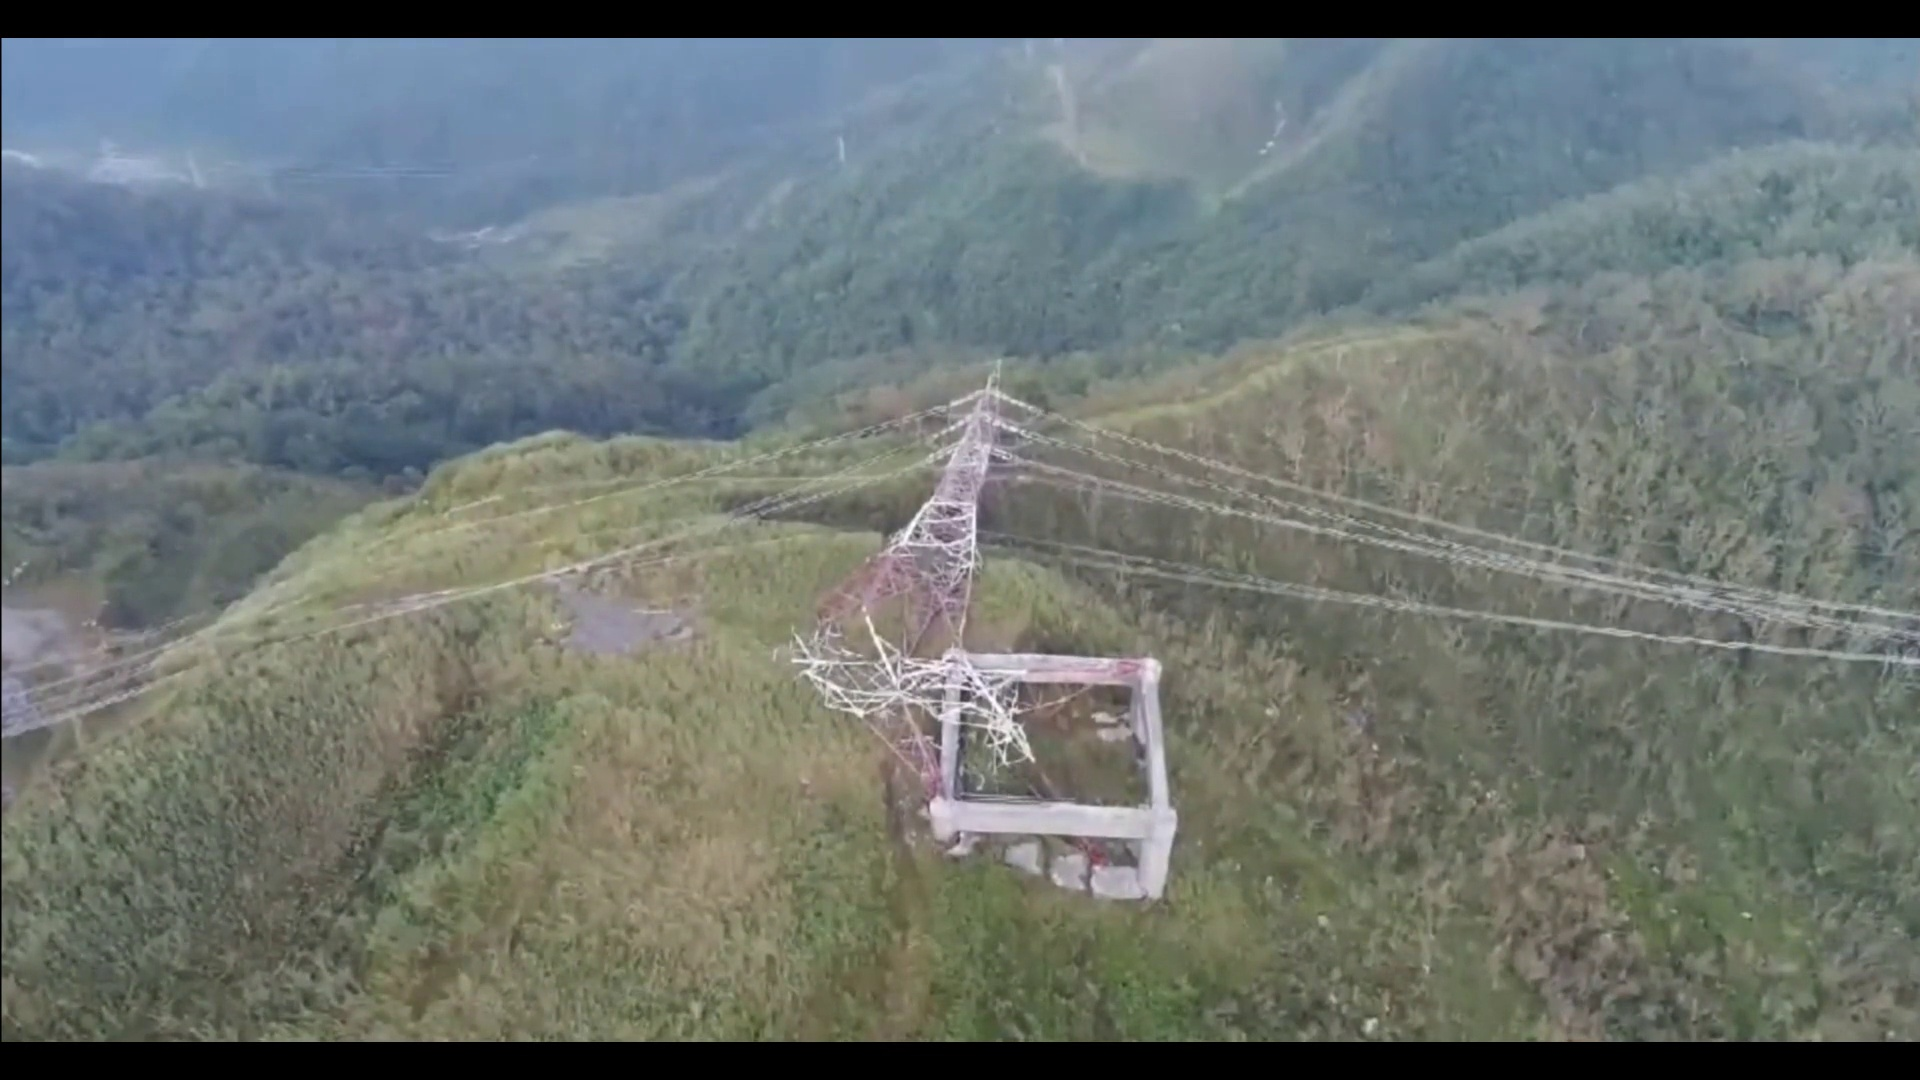tower_down: (789, 339, 1039, 746)
